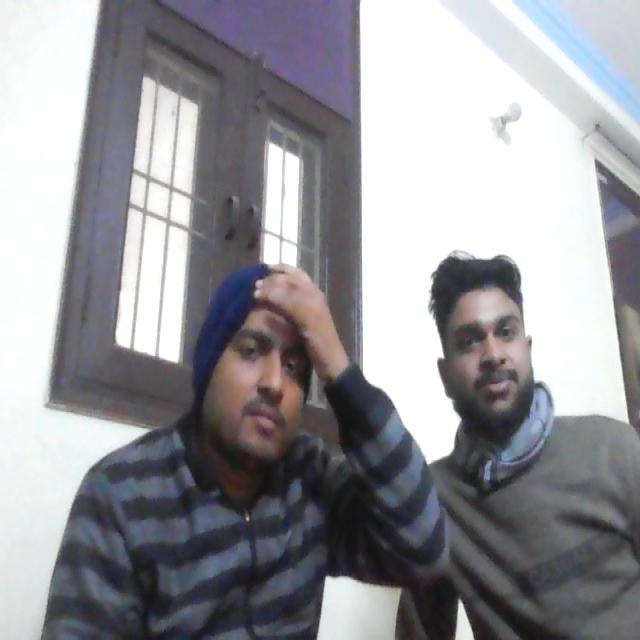real: (202, 252, 323, 480), (430, 234, 538, 438)
